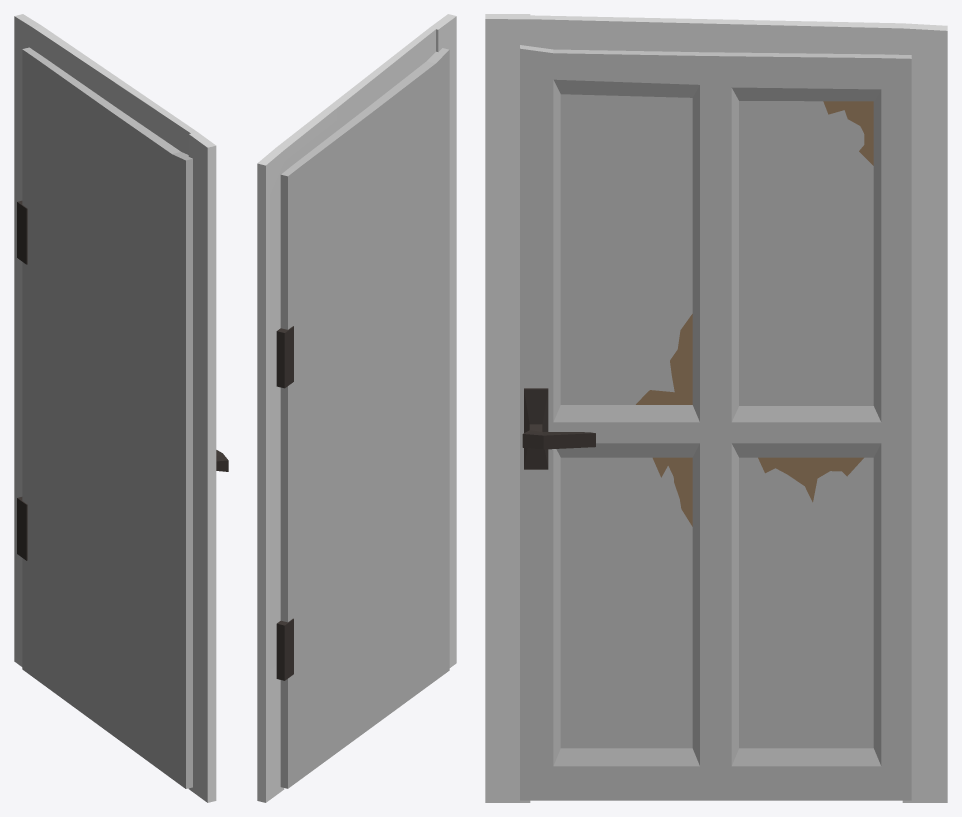
Rendered from Door.fbx.
3 views of the same model, side by side, from view 1: azimuth 30°, elevation 25°; view 2: azimuth 150°, elevation 25°; view 3: azimuth 270°, elevation 25° (orthographic). The views are drawn at different scales.
Visible parts, largest first — view 1: Cube.012; view 2: Cube.012; view 3: Cube.012.
Boxes of the visible parts, x1=… form: Cube.012: x1=14, y1=14, x2=228, y2=802; Cube.012: x1=257, y1=14, x2=456, y2=802; Cube.012: x1=485, y1=14, x2=947, y2=802.
Bounding box in the file's own units: 9.56 × 125 × 66.93.
